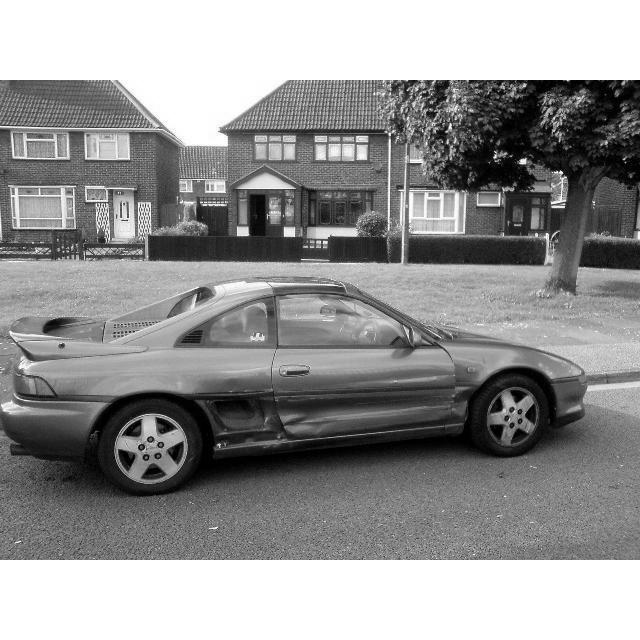Runningboard-Damage: (206, 430, 444, 453)
doorouter-dent: (282, 348, 456, 434)
quaterpanel-dent: (169, 357, 272, 438)
